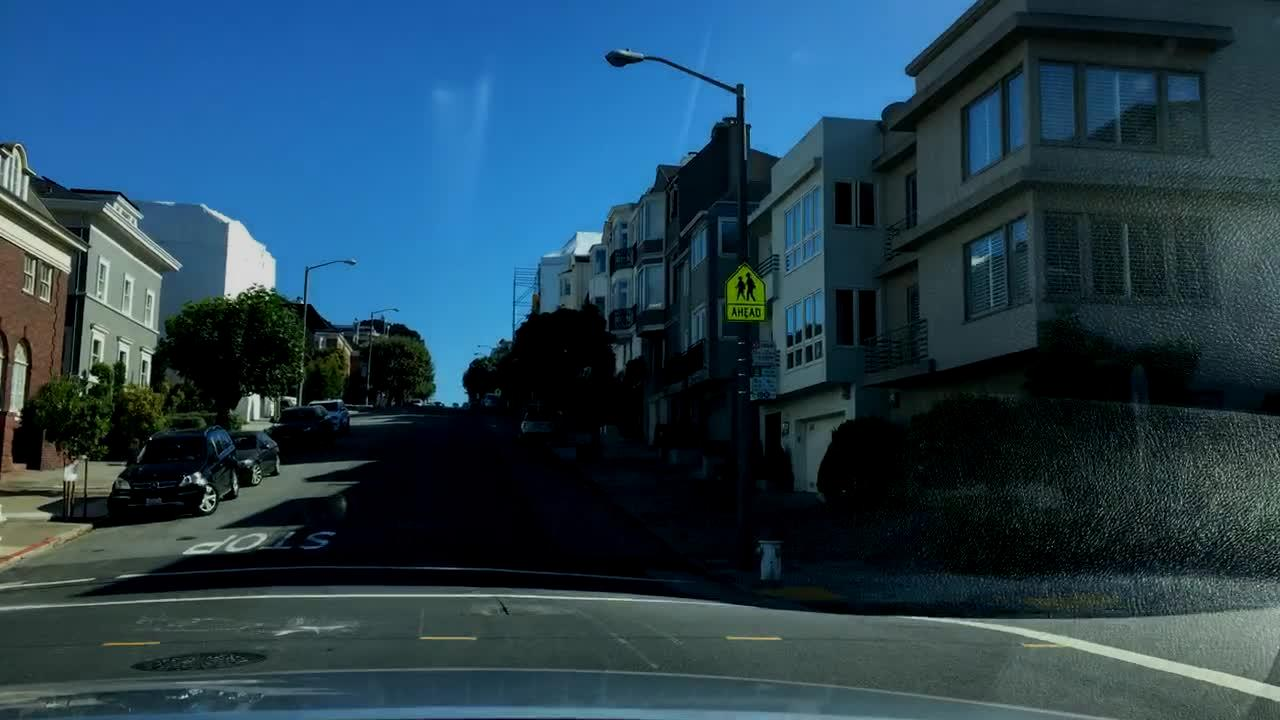Mercedes: (146, 476, 164, 492)
